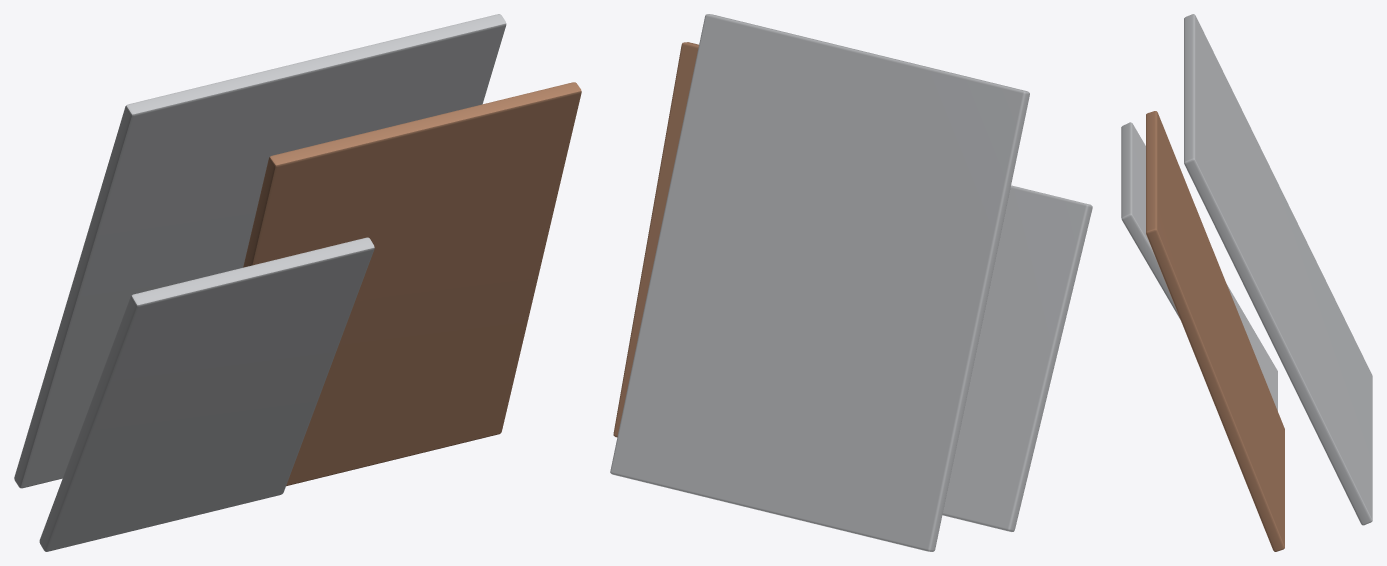
Rendered from scrap_sheets.glb.
3 renders of one model, left to right at view 1: azimuth 30°, elevation 25°; view 2: azimuth 150°, elevation 25°; view 3: azimuth 270°, elevation 25°, orthographic. The views are drawn at different scales.
Parts seen in each view (by area): view 1: scrap_sheets; view 2: scrap_sheets; view 3: scrap_sheets.
Boxes of the visible parts, left/top/right/bottom form: scrap_sheets: left=14, top=14, right=581, bottom=551; scrap_sheets: left=610, top=14, right=1092, bottom=551; scrap_sheets: left=1121, top=14, right=1372, bottom=551.
Size of the model in its own units: 1.35 by 1.32 by 0.7991.
